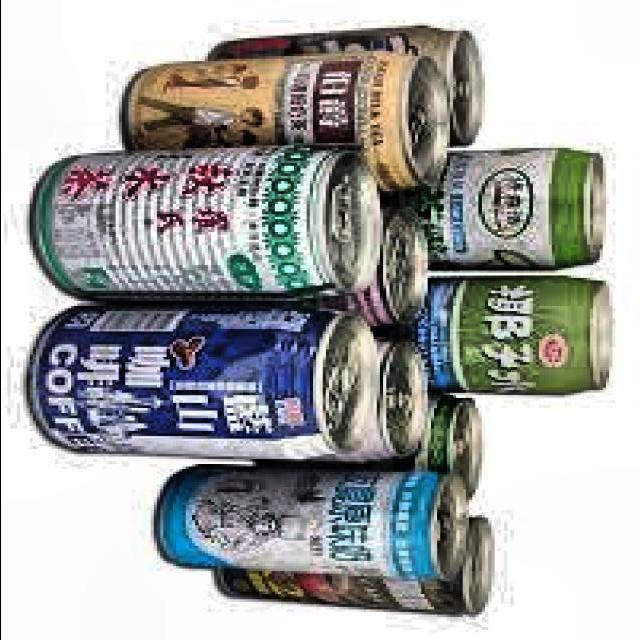litter: (19, 140, 389, 309), (20, 301, 378, 465), (109, 52, 451, 205), (196, 21, 500, 158), (144, 462, 477, 580), (374, 272, 619, 411), (208, 516, 505, 622), (396, 144, 618, 279), (246, 393, 490, 506), (232, 336, 434, 466), (296, 203, 444, 342)
